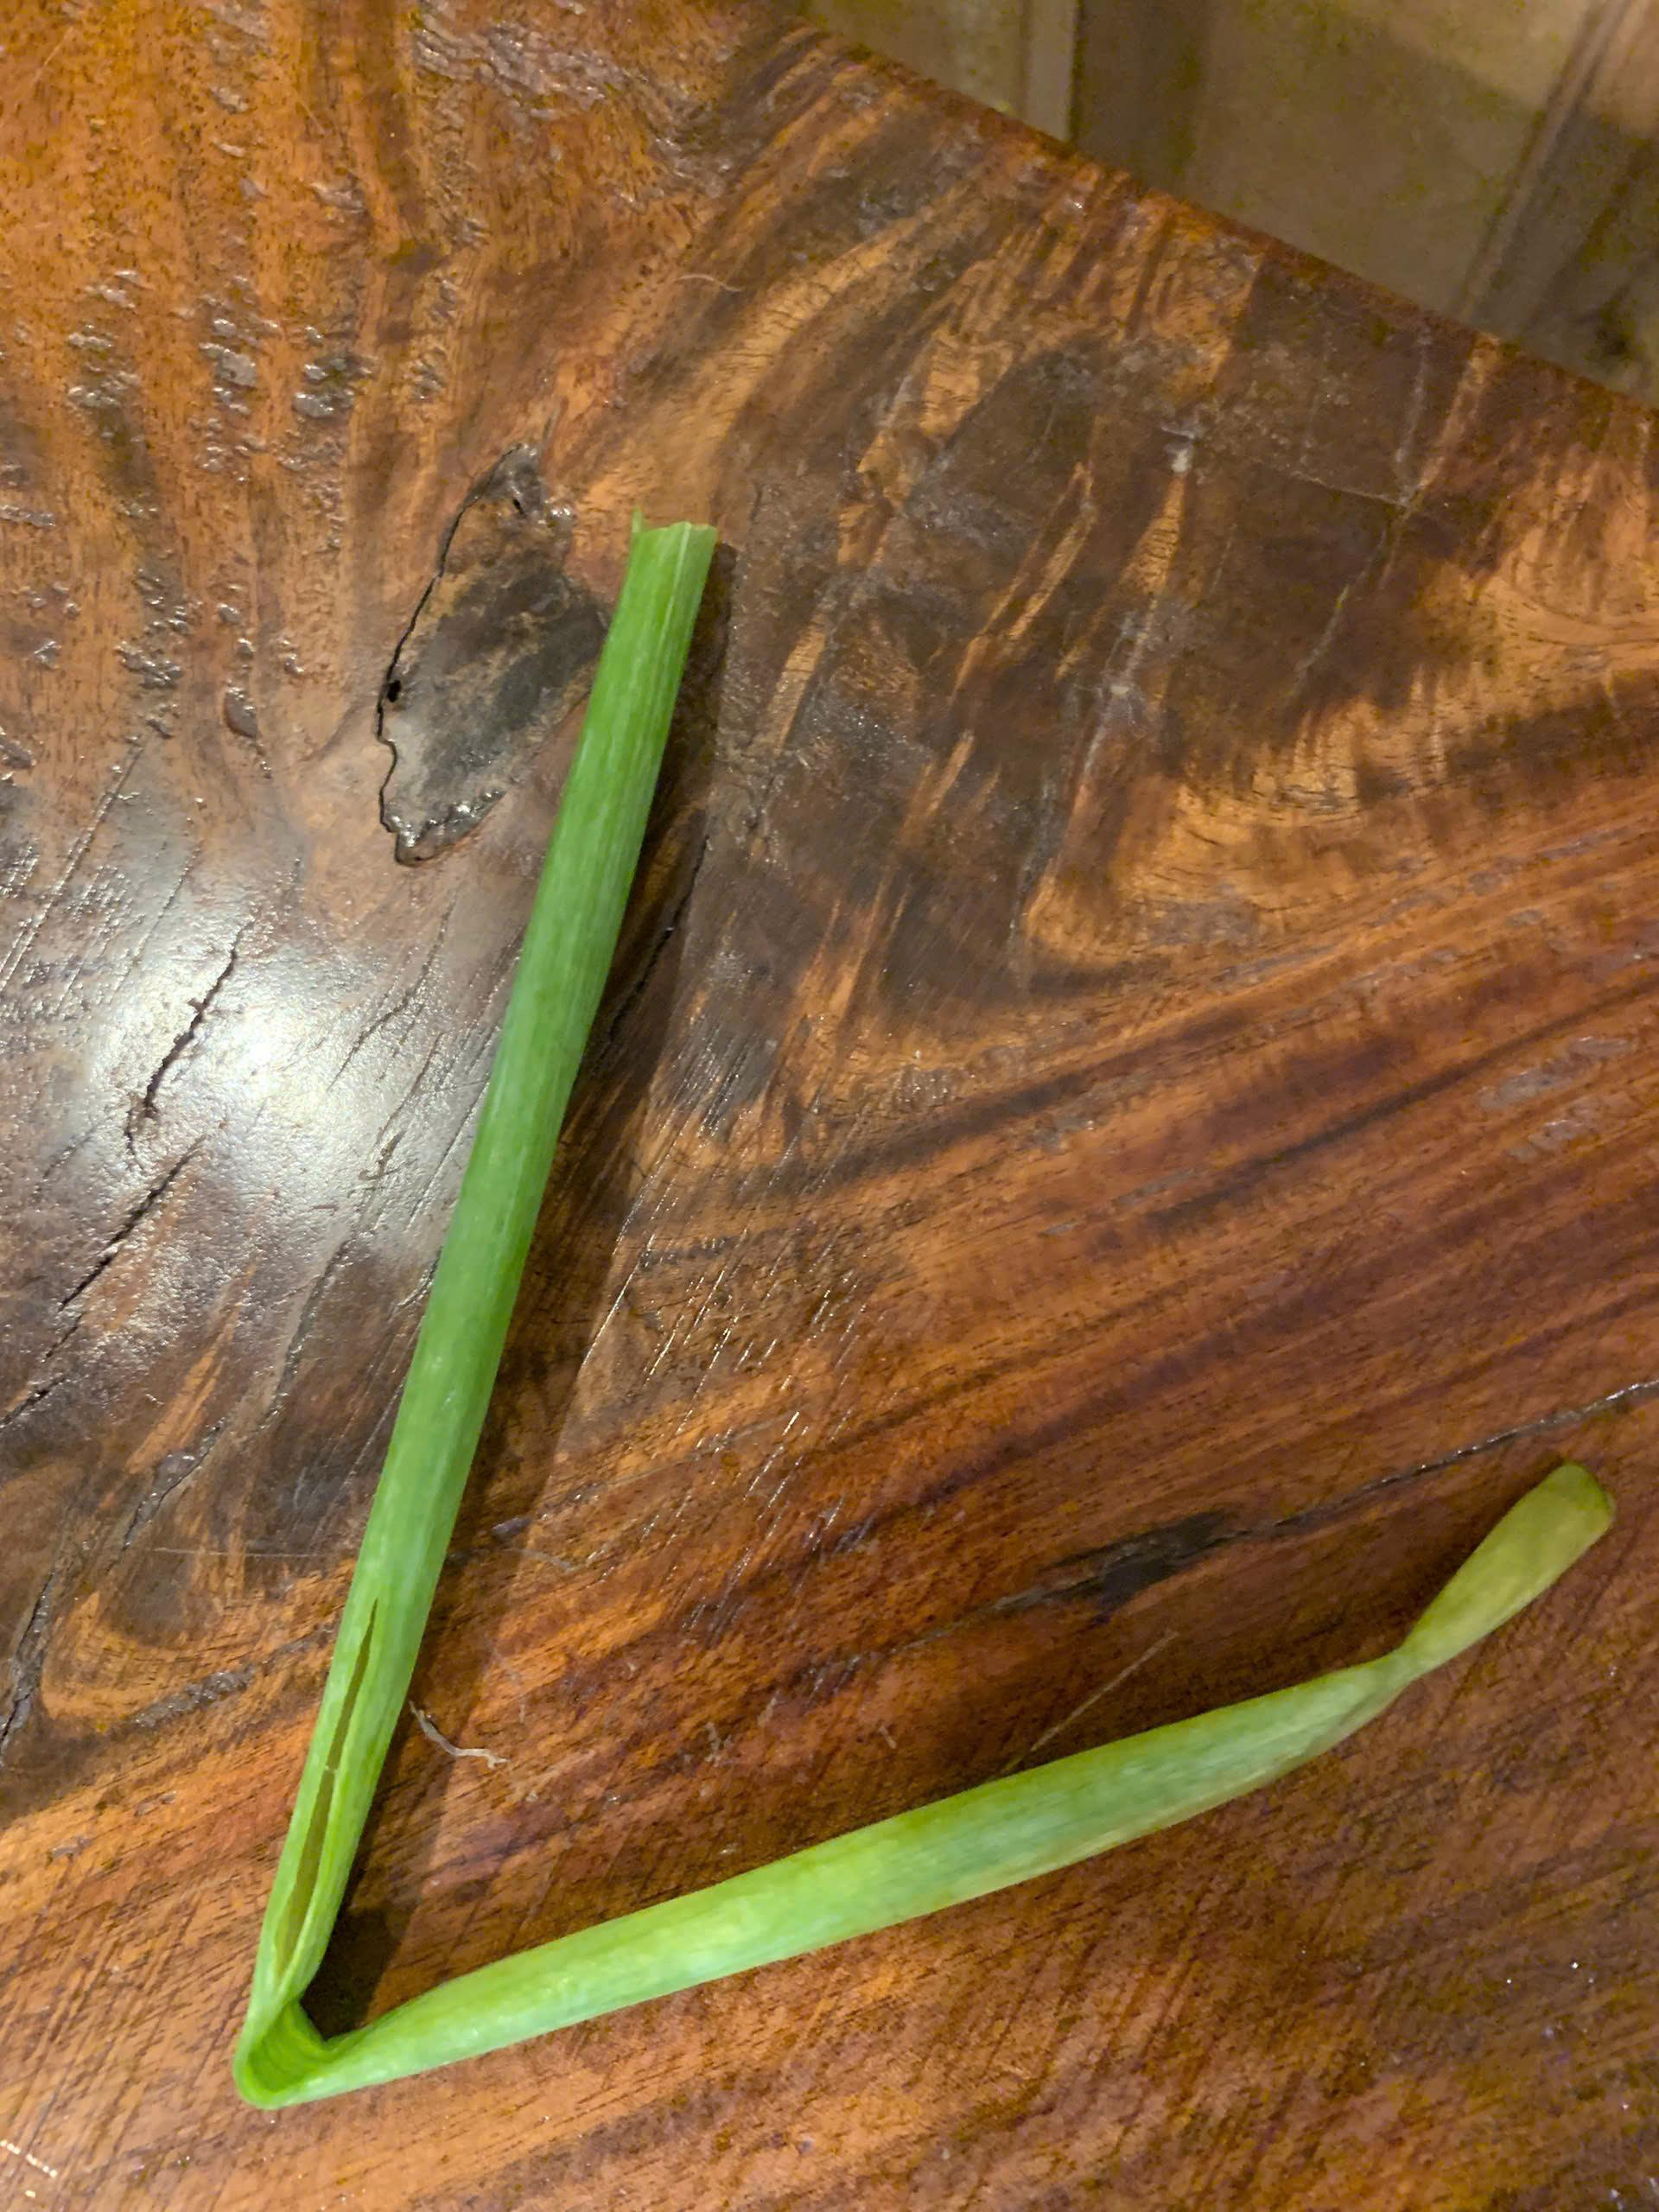Huu co: (237, 516, 1572, 2106)
